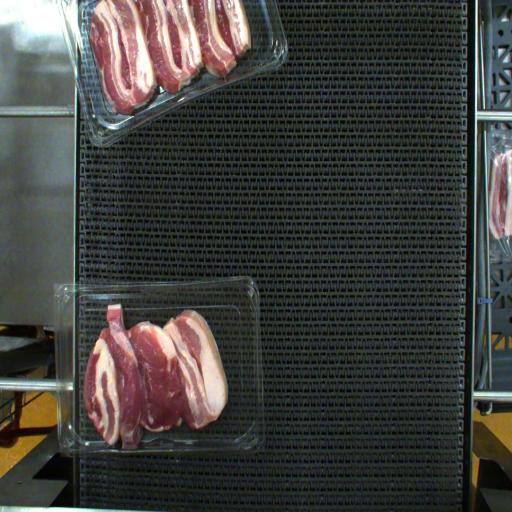twisted-meat: (108, 308, 146, 447)
